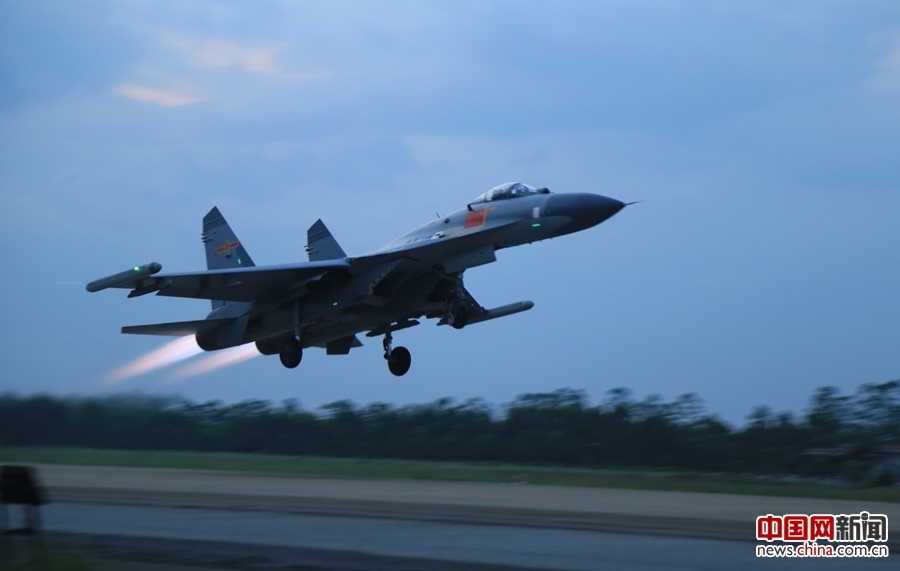airplane: (83, 178, 647, 377)
